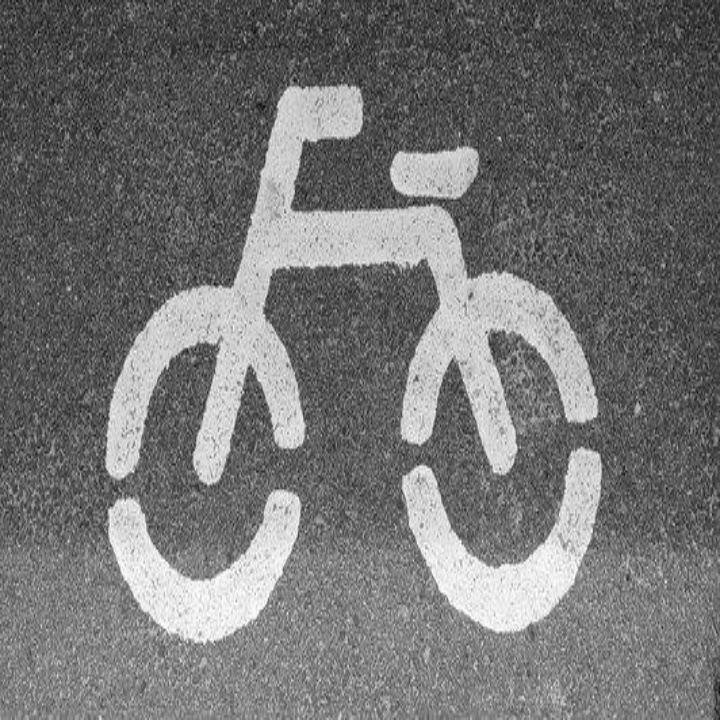bicycle: (62, 38, 669, 664)
